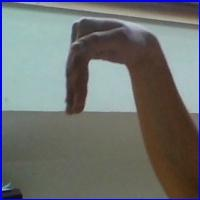del: (63, 14, 149, 120)
